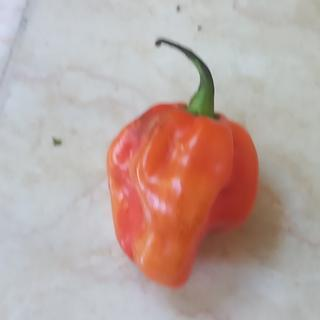Grade-A: (105, 98, 264, 292)
